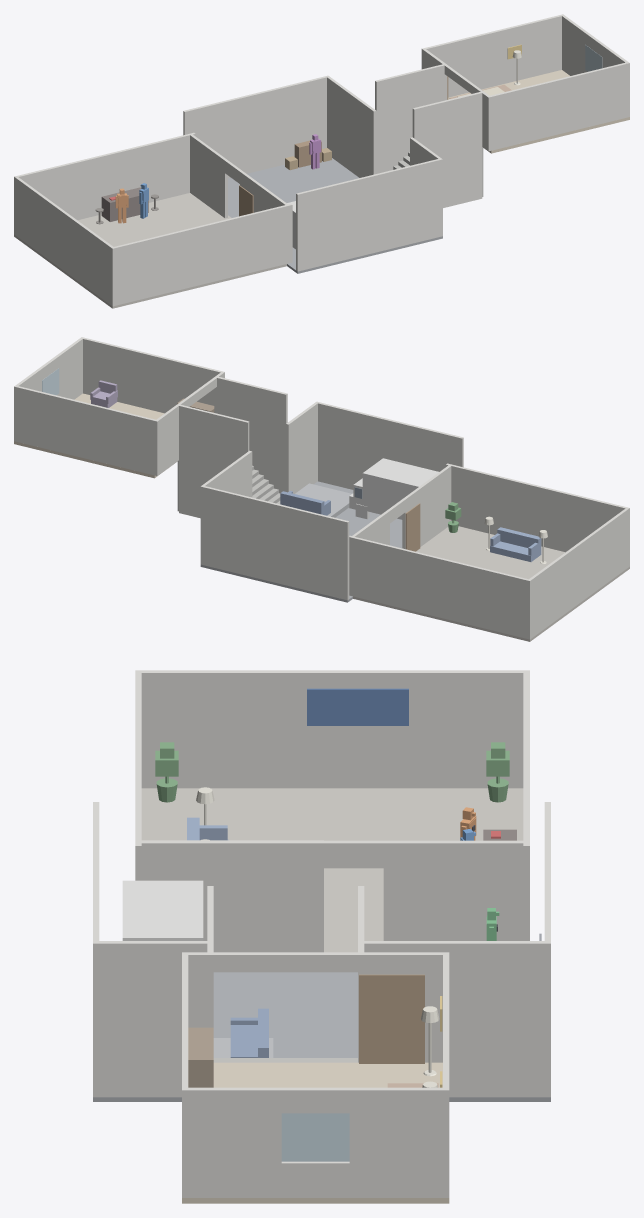
3 renders of one model, top to bottom at view 1: azimuth 30°, elevation 25°; view 2: azimuth 150°, elevation 25°; view 3: azimuth 270°, elevation 25°, orthographic. The views are drawn at different scales.
Parts seen in each view (by area): view 1: S02_wall_s, S01_wall_s, S02_wall_n, S01_wall_n, S03_wall_s, S03_wall_n, S01_wall_w, S02_stairwell_s, S02_stairwell_n, S01_floor, S02_wall_e_n, S02_floor (+9 smaller); view 2: S02_wall_n, S01_wall_n, S01_wall_s, S03_wall_n, S02_wall_s, S01_wall_w, S03_wall_s, S02_stairwell_n, S02_stairwell_s, S01_floor, V01_van, S02_wall_e_s (+14 smaller); view 3: S01_wall_w, S01_floor, S02_wall_e_n, S01_wall_e_s, S01_wall_e_n, S02_wall_e_s, S02_floor, S03_wall_e_n, S03_wall_e_s, S03_floor, S03_door_leaf, V01_van (+20 smaller).
Part boxes in pixels (x1,y1,x2,y2): S02_wall_s: [296, 159, 439, 271]; S01_wall_s: [111, 204, 292, 306]; S02_wall_n: [183, 76, 326, 178]; S01_wall_n: [14, 132, 195, 234]; S03_wall_s: [490, 62, 627, 150]; S03_wall_n: [421, 15, 561, 97]; S01_wall_w: [14, 176, 114, 304]; S02_stairwell_s: [412, 92, 482, 207]; S02_stairwell_n: [375, 64, 444, 173]; S01_floor: [14, 193, 286, 308]; S02_wall_e_n: [326, 75, 376, 177]; S02_floor: [228, 158, 442, 273]; S02_wall_n: [200, 486, 349, 600]; S01_wall_n: [349, 535, 531, 639]; S01_wall_s: [446, 463, 626, 552]; S03_wall_n: [14, 386, 157, 475]; S02_wall_s: [318, 402, 463, 489]; S01_wall_w: [527, 507, 629, 639]; S03_wall_s: [83, 337, 224, 413]; S02_stairwell_n: [179, 404, 249, 518]; S02_stairwell_s: [217, 377, 287, 493]; S01_floor: [353, 526, 629, 641]; V01_van: [349, 458, 438, 519]; S02_wall_e_s: [286, 401, 318, 493]; S01_wall_w: [135, 670, 529, 788]; S01_floor: [141, 788, 523, 952]; S02_wall_e_n: [364, 941, 550, 1097]; S01_wall_e_s: [135, 840, 323, 952]; S01_wall_e_n: [383, 840, 529, 940]; S02_wall_e_s: [93, 941, 207, 1097]; S02_floor: [93, 972, 550, 1101]; S03_wall_e_n: [349, 1087, 449, 1197]; S03_wall_e_s: [182, 1087, 281, 1197]; S03_floor: [182, 1062, 449, 1203]; S03_door_leaf: [359, 974, 424, 1063]; V01_van: [122, 880, 203, 940].
Size of the model in its own units: 28.8 by 5.62 by 10.8.
